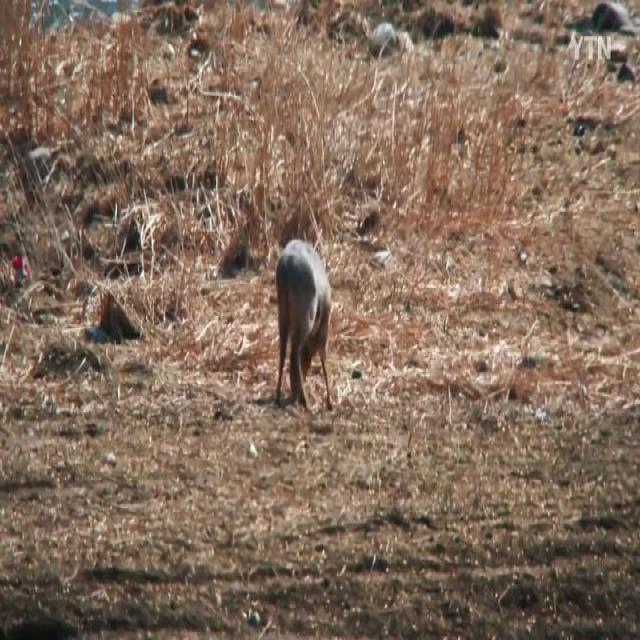deer: (276, 237, 336, 413)
